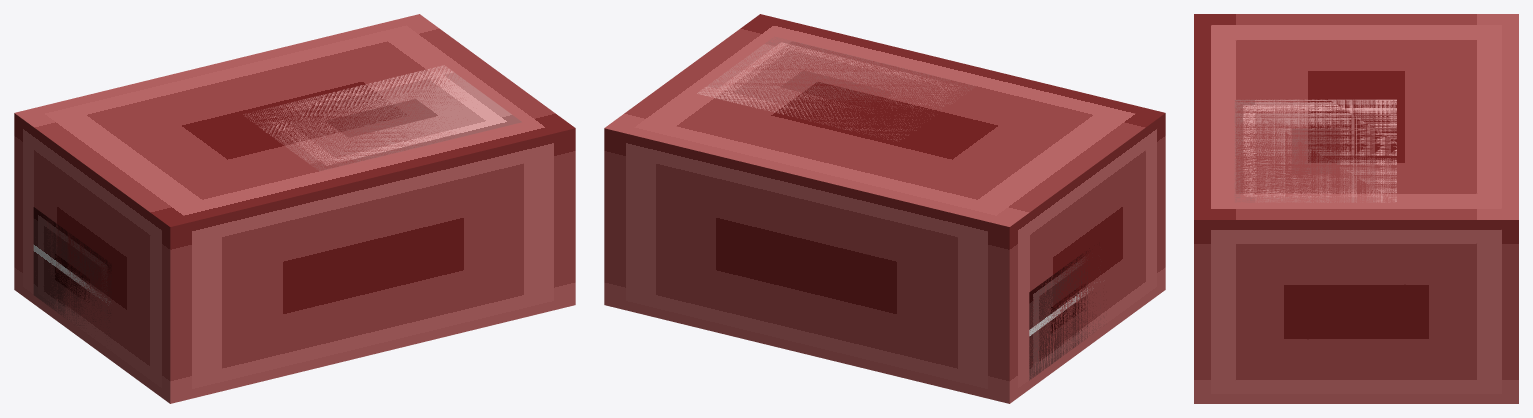
The picture shows the model from 3 angles, left to right: view 1: azimuth 30°, elevation 25°; view 2: azimuth 150°, elevation 25°; view 3: azimuth 270°, elevation 25°; orthographic projection. The views are drawn at different scales.
Visible parts, largest first — view 1: raw_meat; view 2: raw_meat; view 3: raw_meat.
Part boxes in pixels (x1,y1,x2,y2): raw_meat: [14, 14, 575, 403]; raw_meat: [604, 14, 1165, 403]; raw_meat: [1194, 14, 1518, 403].
Size of the model in its own units: 0.24 by 0.1 by 0.16.
Materials: 3 (3 with a texture image).
